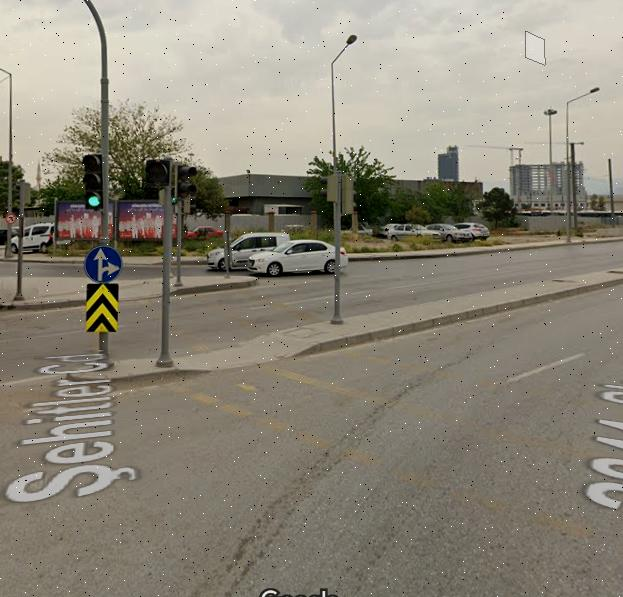greenlight: (83, 154, 105, 208)
leftturnsareforbidden: (5, 214, 16, 224)
